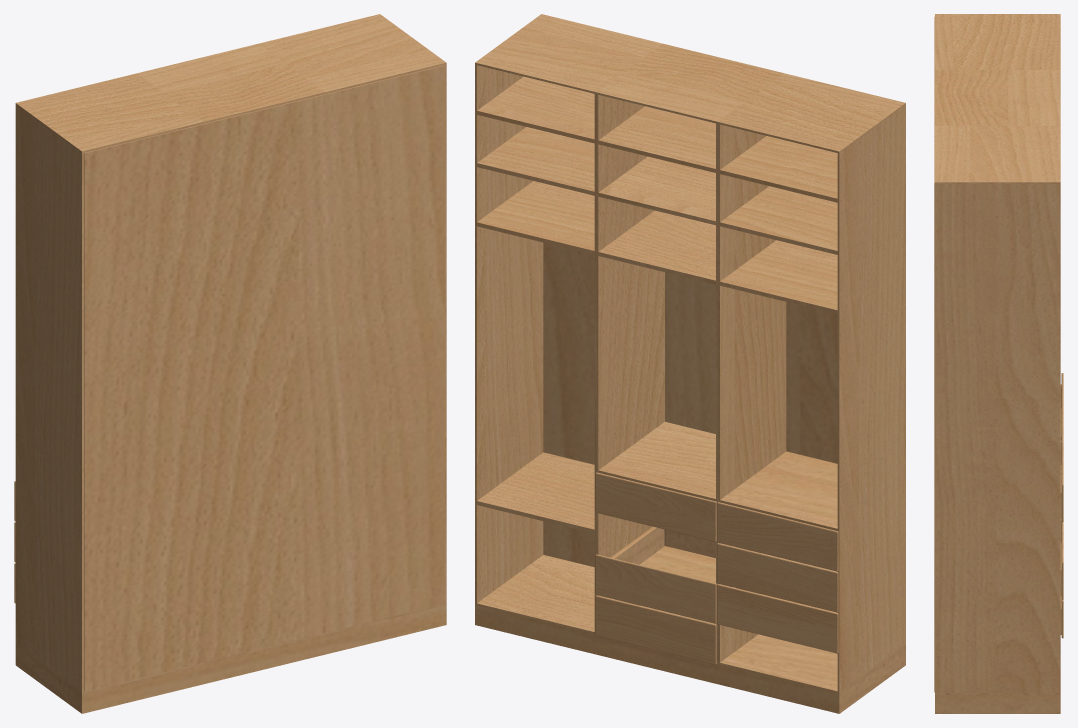
File: lockerTypeThreeDefoult1.gltf
3 renders of one model, left to right at view 1: azimuth 30°, elevation 25°; view 2: azimuth 150°, elevation 25°; view 3: azimuth 270°, elevation 25°, orthographic. The views are drawn at different scales.
Visible parts, largest first — view 1: lockerTypeThreeDefoult1; view 2: lockerTypeThreeDefoult1; view 3: lockerTypeThreeDefoult1.
Part boxes in pixels (<box>): lockerTypeThreeDefoult1: <box>14,14,446,713</box>; lockerTypeThreeDefoult1: <box>475,14,905,713</box>; lockerTypeThreeDefoult1: <box>934,14,1063,713</box>.
Bounding box in the file's own units: 1.9 × 2.8 × 0.618.
1 material, 1 textured.
